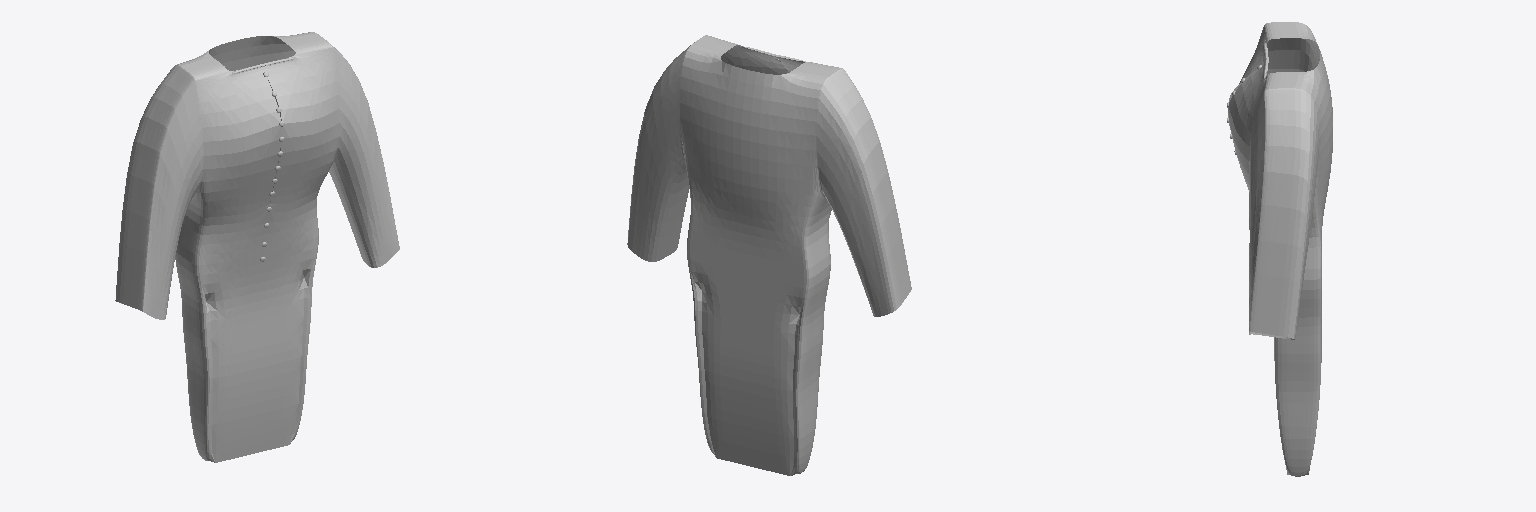
File: bathrobe.obj
The picture shows the model from 3 angles: view 1: azimuth 30°, elevation 25°; view 2: azimuth 150°, elevation 25°; view 3: azimuth 270°, elevation 25°; orthographic projection.
Visible parts, largest first — view 1: Plane; view 2: Plane; view 3: Plane.
Boxes of the visible parts, x1=… form: Plane: x1=115, y1=32, x2=399, y2=462; Plane: x1=627, y1=35, x2=911, y2=475; Plane: x1=1228, y1=22, x2=1332, y2=476.
Size of the model in its own units: 2.34 by 3.32 by 0.8003.